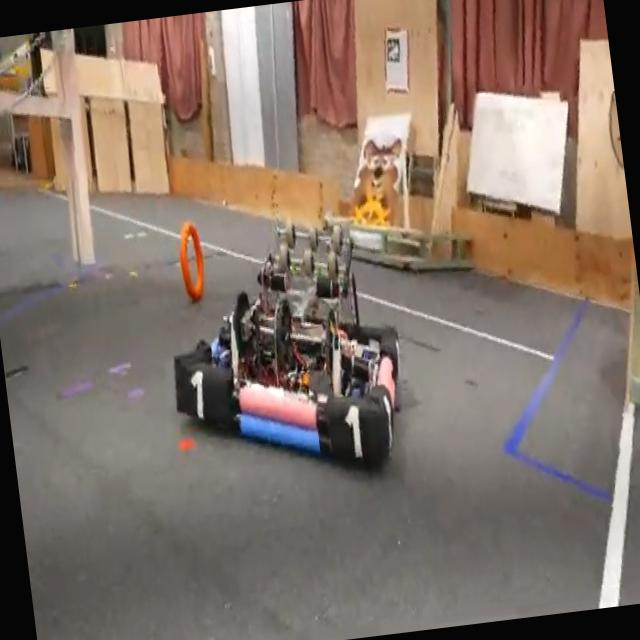note: (172, 216, 211, 310)
